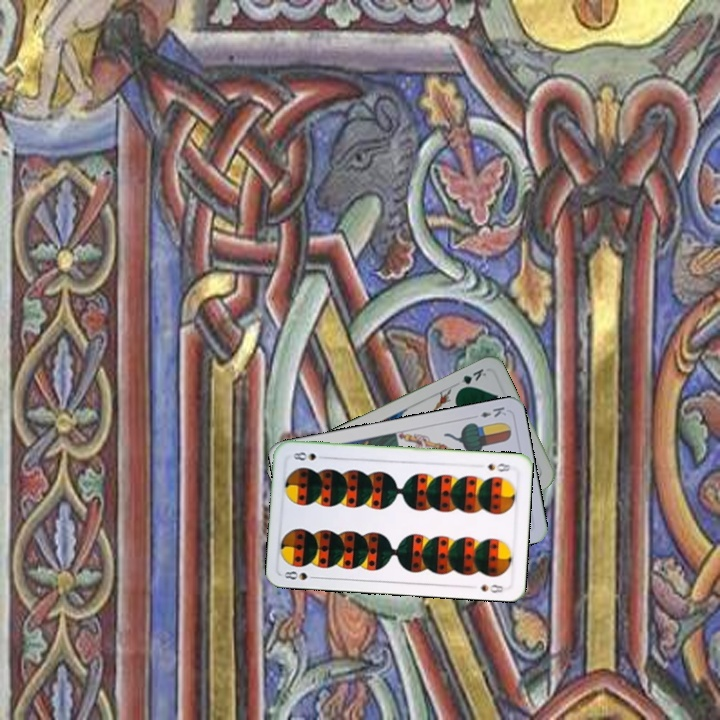EK: (476, 403, 509, 420)
GK: (454, 364, 489, 393)
S8: (280, 567, 321, 582), (484, 459, 513, 474)
